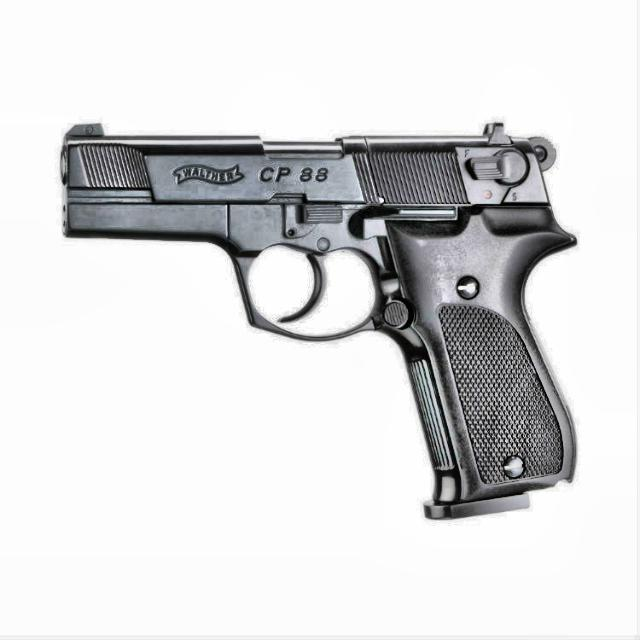pistol: (56, 114, 582, 520)
